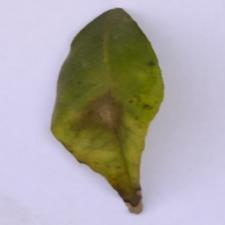Black: (75, 76, 154, 216)
